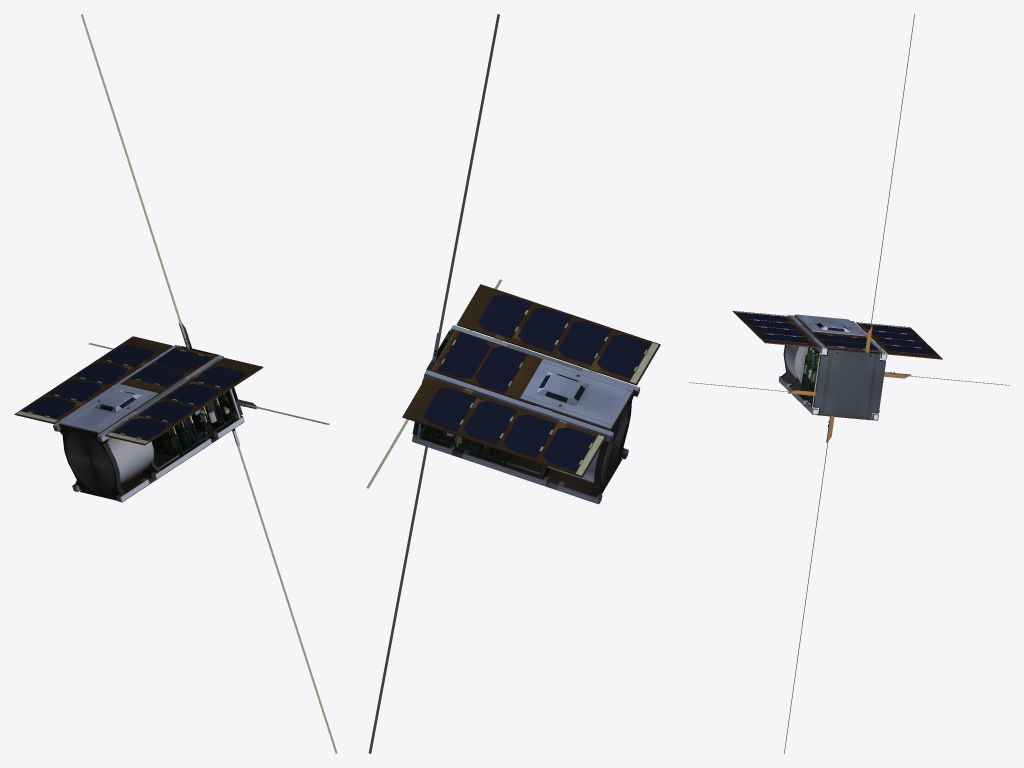
3 views of the same model, side by side, from view 1: azimuth 30°, elevation 25°; view 2: azimuth 150°, elevation 25°; view 3: azimuth 270°, elevation 25° (orthographic). The views are drawn at different scales.
Visible parts, largest first — view 1: Geode; view 2: Geode; view 3: Geode.
Boxes of the visible parts, <box> form: Geode: <box>14,14,337,753</box>; Geode: <box>366,14,660,753</box>; Geode: <box>689,14,1009,753</box>.
Size of the model in its own units: 38.35 by 106 by 46.58.
Materials: 2 (2 with a texture image).
